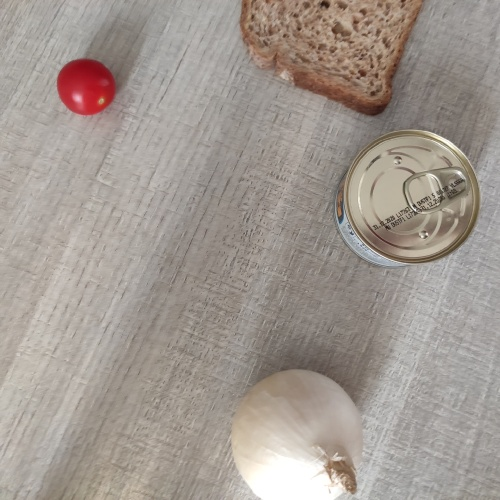cipolla: (230, 364, 364, 498)
pane: (230, 5, 429, 114)
pomodoro: (51, 54, 123, 126)
tonno: (324, 126, 481, 283)
